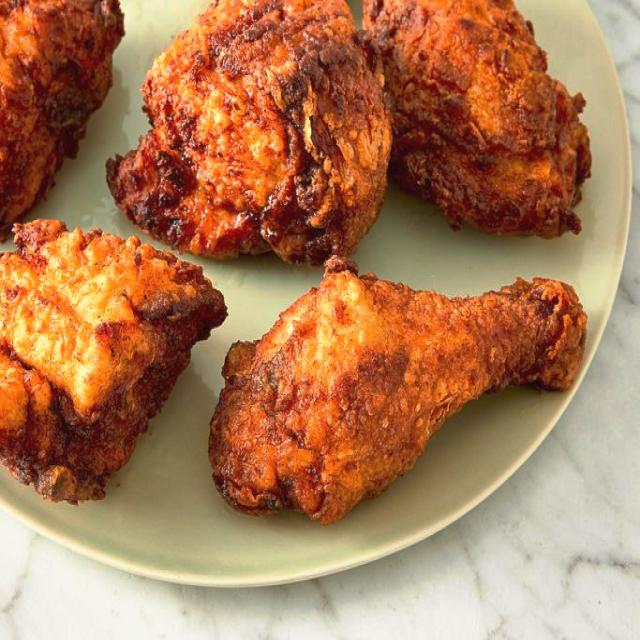fried_chicken: (209, 259, 586, 522), (104, 1, 393, 267), (1, 224, 229, 501), (365, 1, 591, 238), (0, 2, 124, 222)
